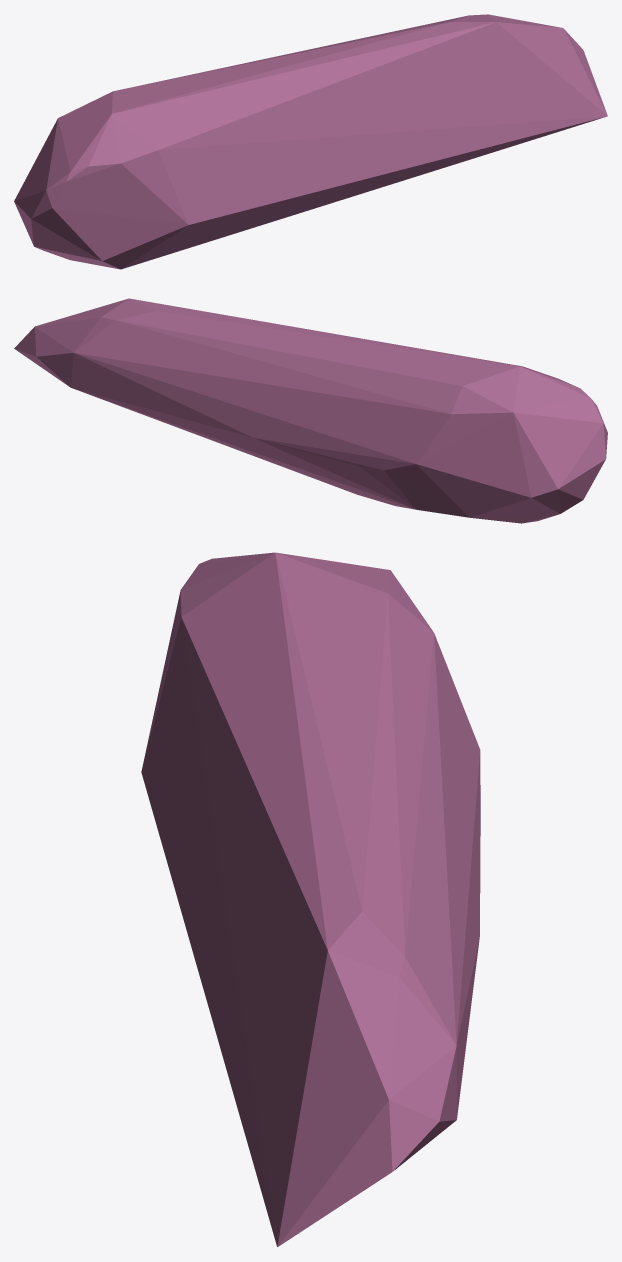
Rendered from food_produce_zucchini_a01.glb.
3 views of the same model, one above another, from view 1: azimuth 30°, elevation 25°; view 2: azimuth 150°, elevation 25°; view 3: azimuth 270°, elevation 25° (orthographic). The views are drawn at different scales.
Parts seen in each view (by area): view 1: geometry_0; view 2: geometry_0; view 3: geometry_0.
Boxes of the visible parts, x1,y1,x2,y2 form: geometry_0: (14,14,607,269); geometry_0: (14,298,607,523); geometry_0: (141,552,480,1246).
Size of the model in its own units: 0.4507 by 0.1169 by 0.1187.
